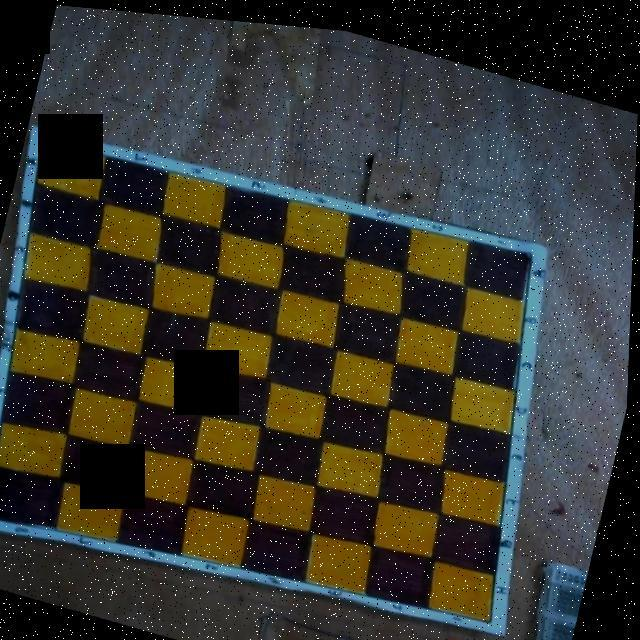chess-table-corners: (530, 240, 534, 245), (41, 136, 46, 140), (492, 610, 496, 614)
